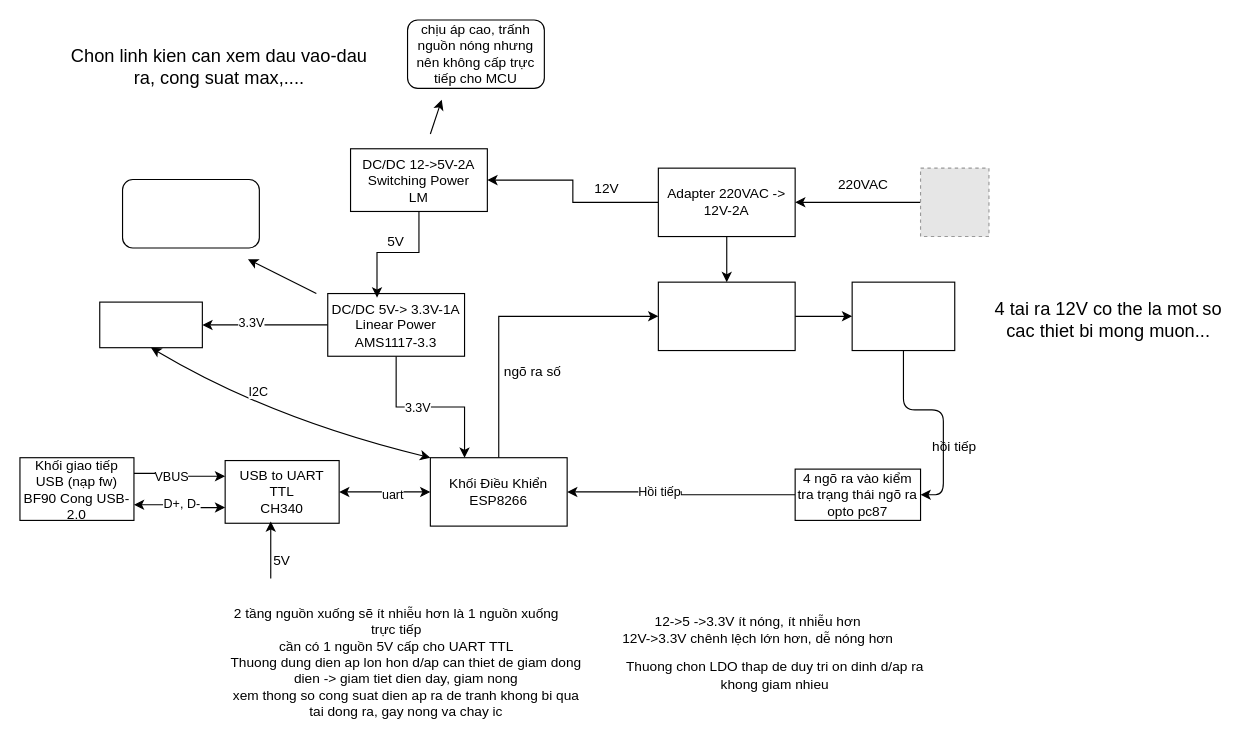
Image size: 1260x740. Some labels were removed from this diagram. Grey dashed boxes stand in for pictures. The box of each missing label's shape, as (x1, y1, x2, y2) in pixels:
4 tải 12V: (851, 281, 955, 351)
dễ nóng nhưng ít nhiễu phù hợp đk mcu(khối đk): (121, 178, 259, 248)
Khối thời gian thực (RTC) DS3231SN: (99, 301, 202, 348)
ngõ ra công suất kích tải 12V ULN2803-RELAY: (657, 281, 795, 351)
